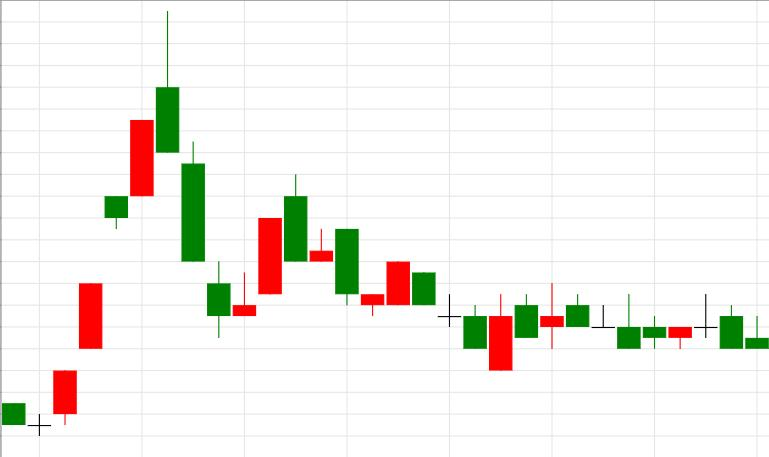bullish_engulfing_rise: (285, 174, 512, 371)
three_black_crows_fall: (27, 10, 230, 438)
